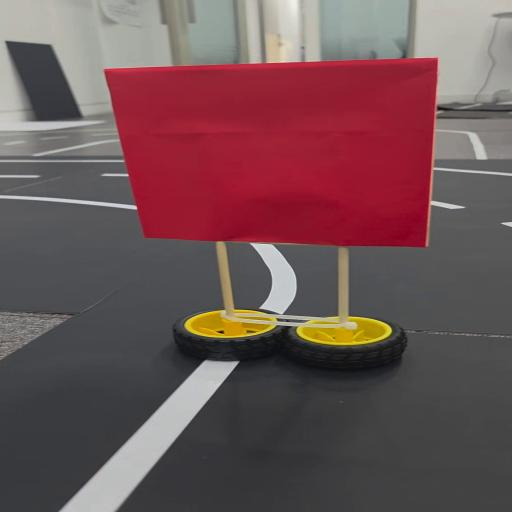Sign_A: (110, 64, 460, 368)
